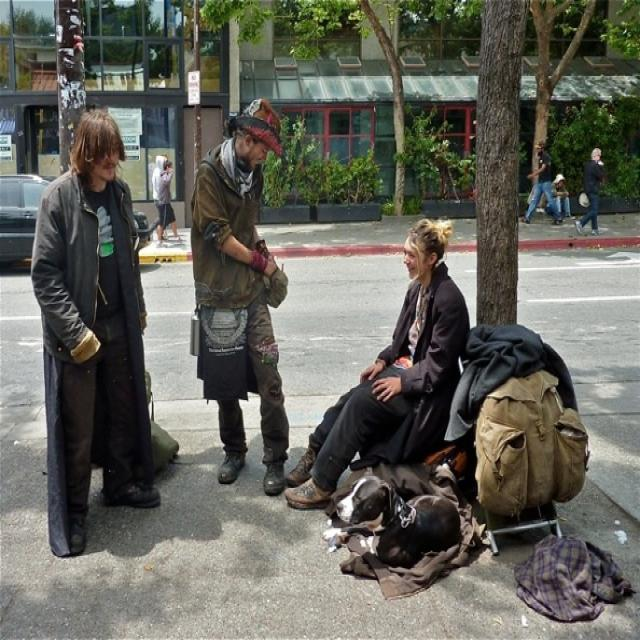body: (27, 104, 163, 561), (280, 215, 473, 512), (184, 93, 292, 499), (57, 431, 317, 564), (518, 137, 565, 227), (572, 146, 606, 238), (154, 157, 183, 248), (150, 154, 169, 242), (542, 171, 576, 220)
